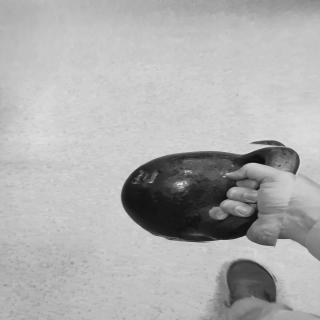kettlebell: (116, 137, 300, 246)
